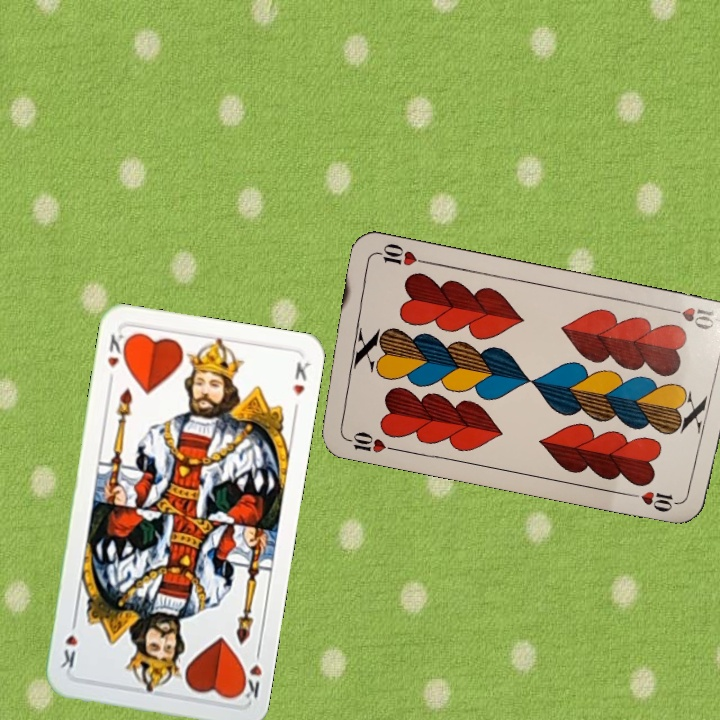H10: (339, 427, 398, 456), (660, 303, 717, 332)
HK: (234, 644, 265, 701), (103, 329, 132, 387)
